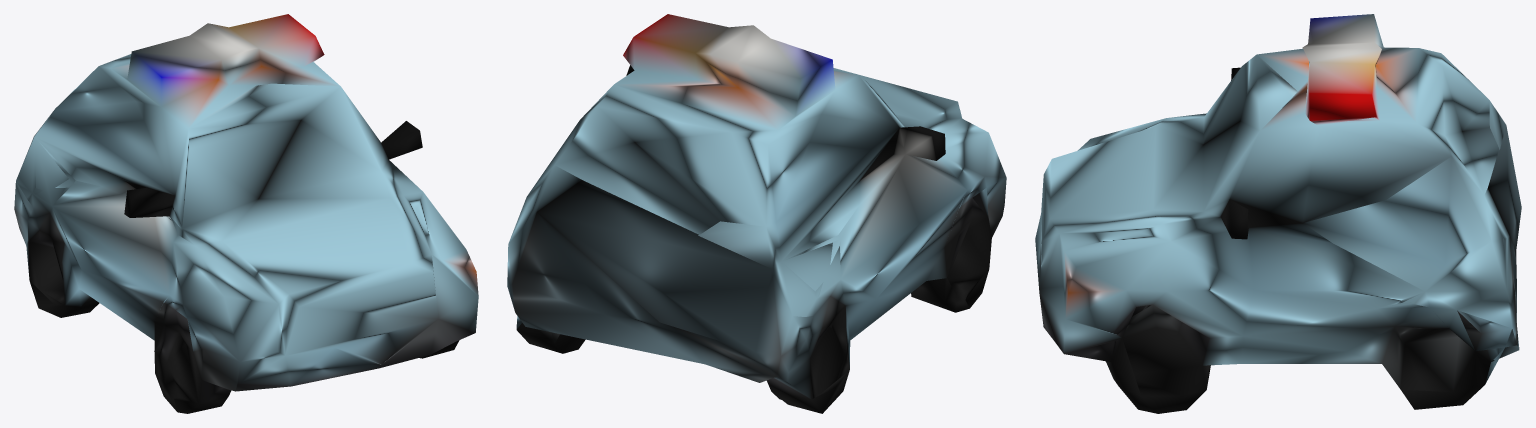
File: gen3d-police-car-lod1.glb
The picture shows the model from 3 angles, left to right: view 1: azimuth 30°, elevation 25°; view 2: azimuth 150°, elevation 25°; view 3: azimuth 270°, elevation 25°; orthographic projection. The views are drawn at different scales.
Parts seen in each view (by area): view 1: part_0; view 2: part_0; view 3: part_0.
Boxes of the visible parts, box(x1,y1,x2,y2) form: part_0: box(14, 14, 478, 413); part_0: box(507, 14, 1006, 413); part_0: box(1035, 14, 1521, 413).
Size of the model in its own units: 1.09 by 0.9975 by 1.47.
